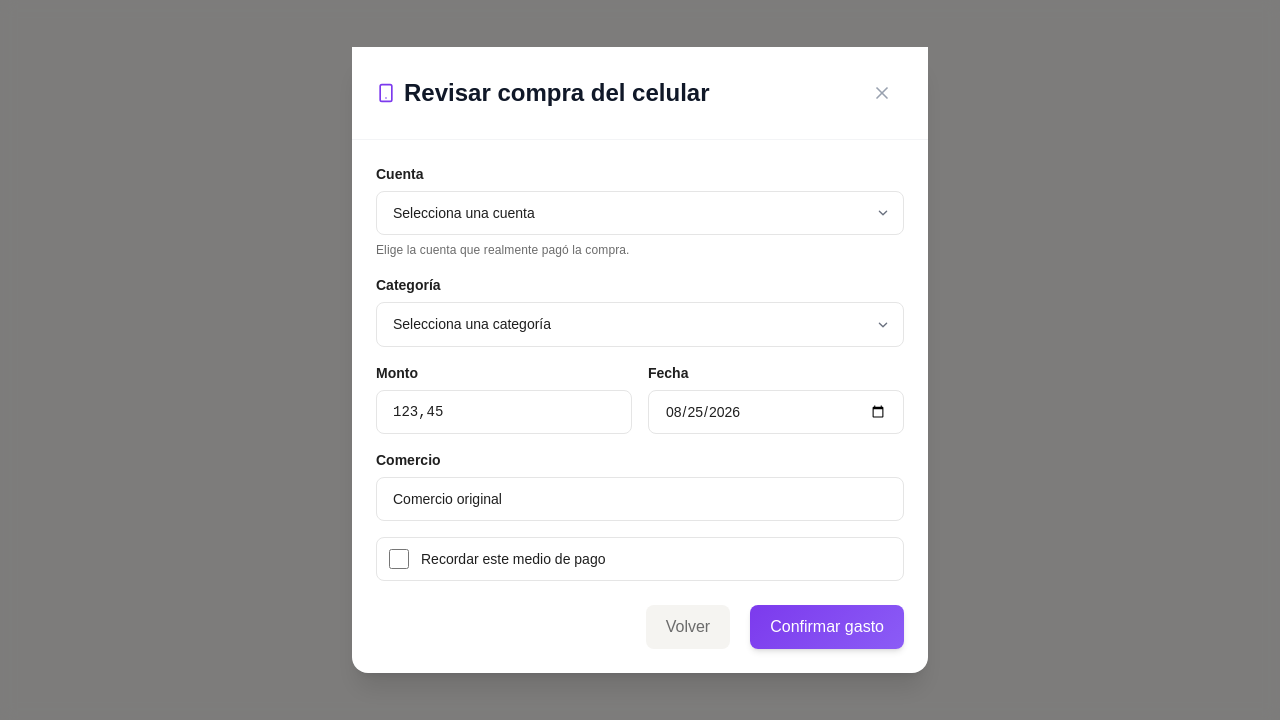
Test: TransactionImportReviewModal › requires an account and an expense category
Click the button "Confirmar gasto": (827, 627) top-left (750, 605), bottom-right (904, 649)
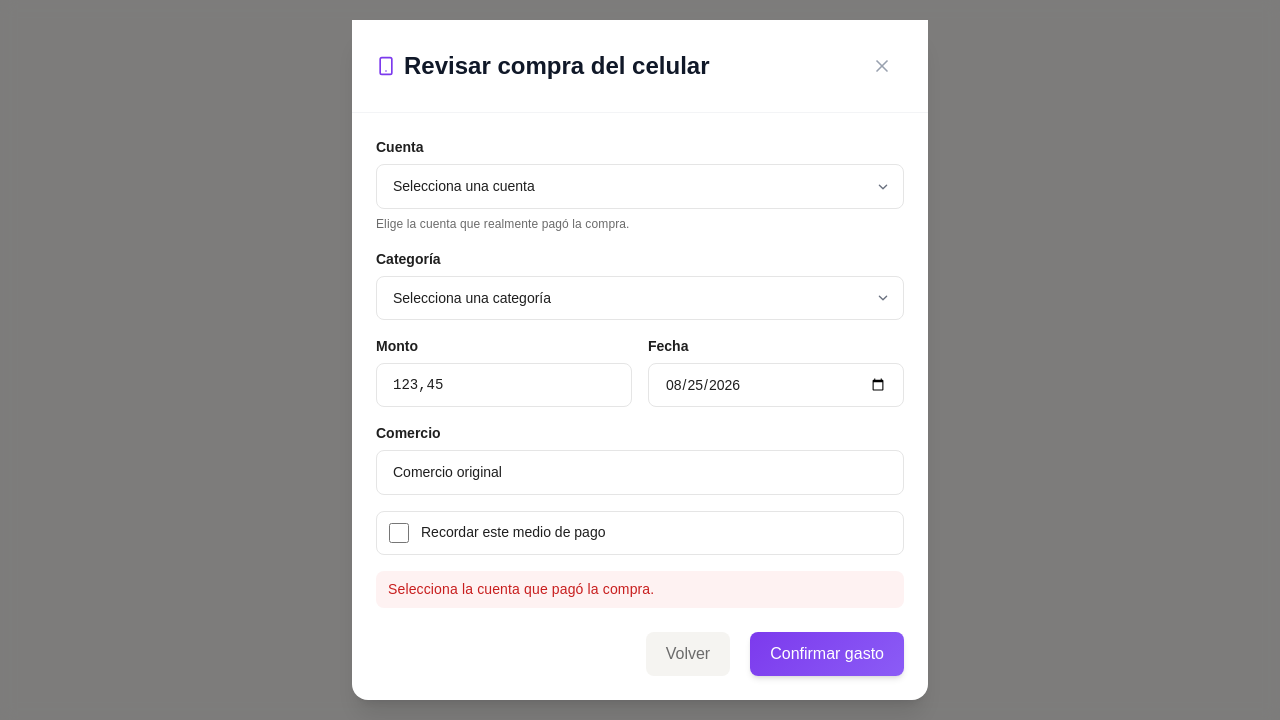
Expected: the message shows "cuenta", top-left (388, 581), bottom-right (654, 597)
Select "Ahorros" in the dropdown labelled "Cuenta": (640, 186) top-left (376, 164), bottom-right (904, 209)
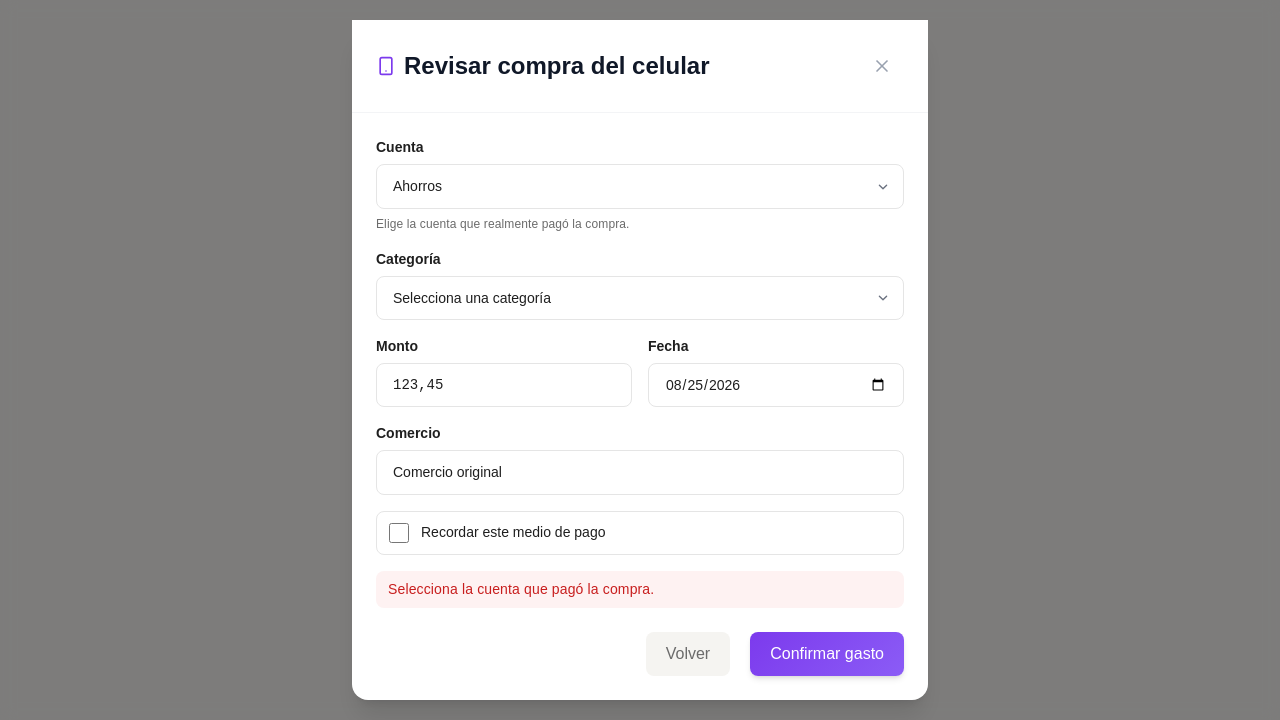
Click the button "Confirmar gasto": (827, 654) top-left (750, 632), bottom-right (904, 676)
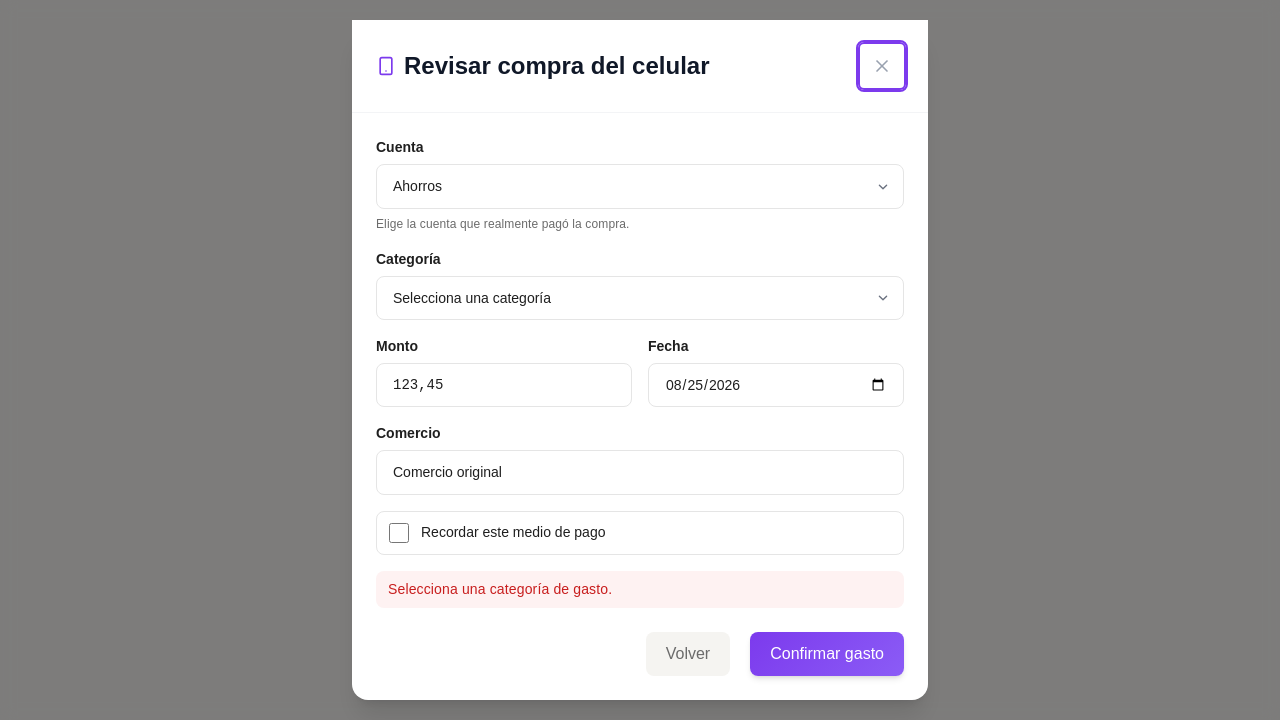
Expected: the message shows "categoría", top-left (388, 581), bottom-right (612, 597)
